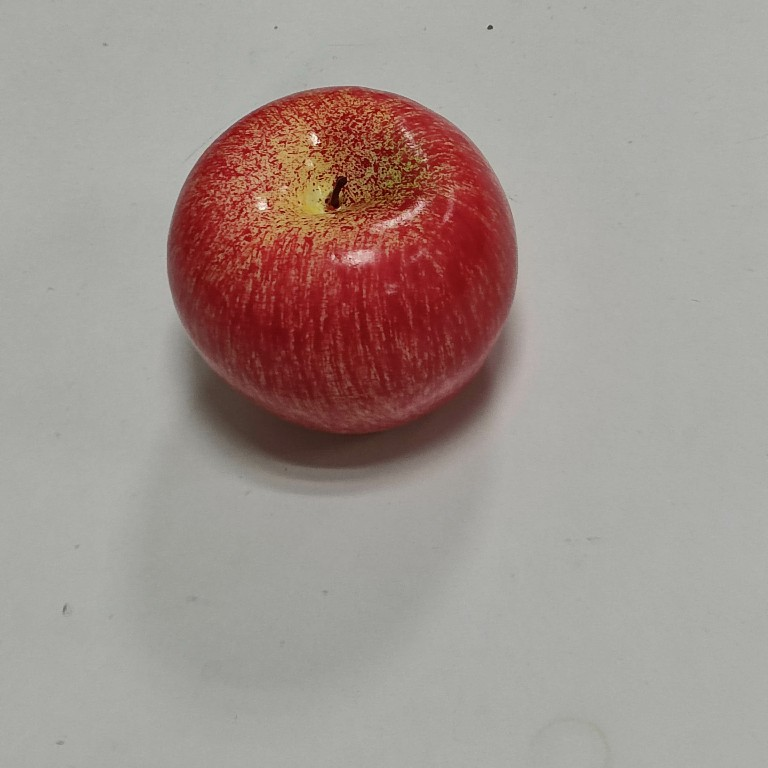fruit_apple: (160, 81, 524, 440)
